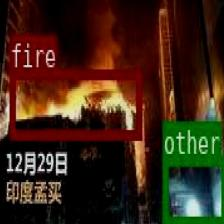fire: (9, 69, 141, 137)
